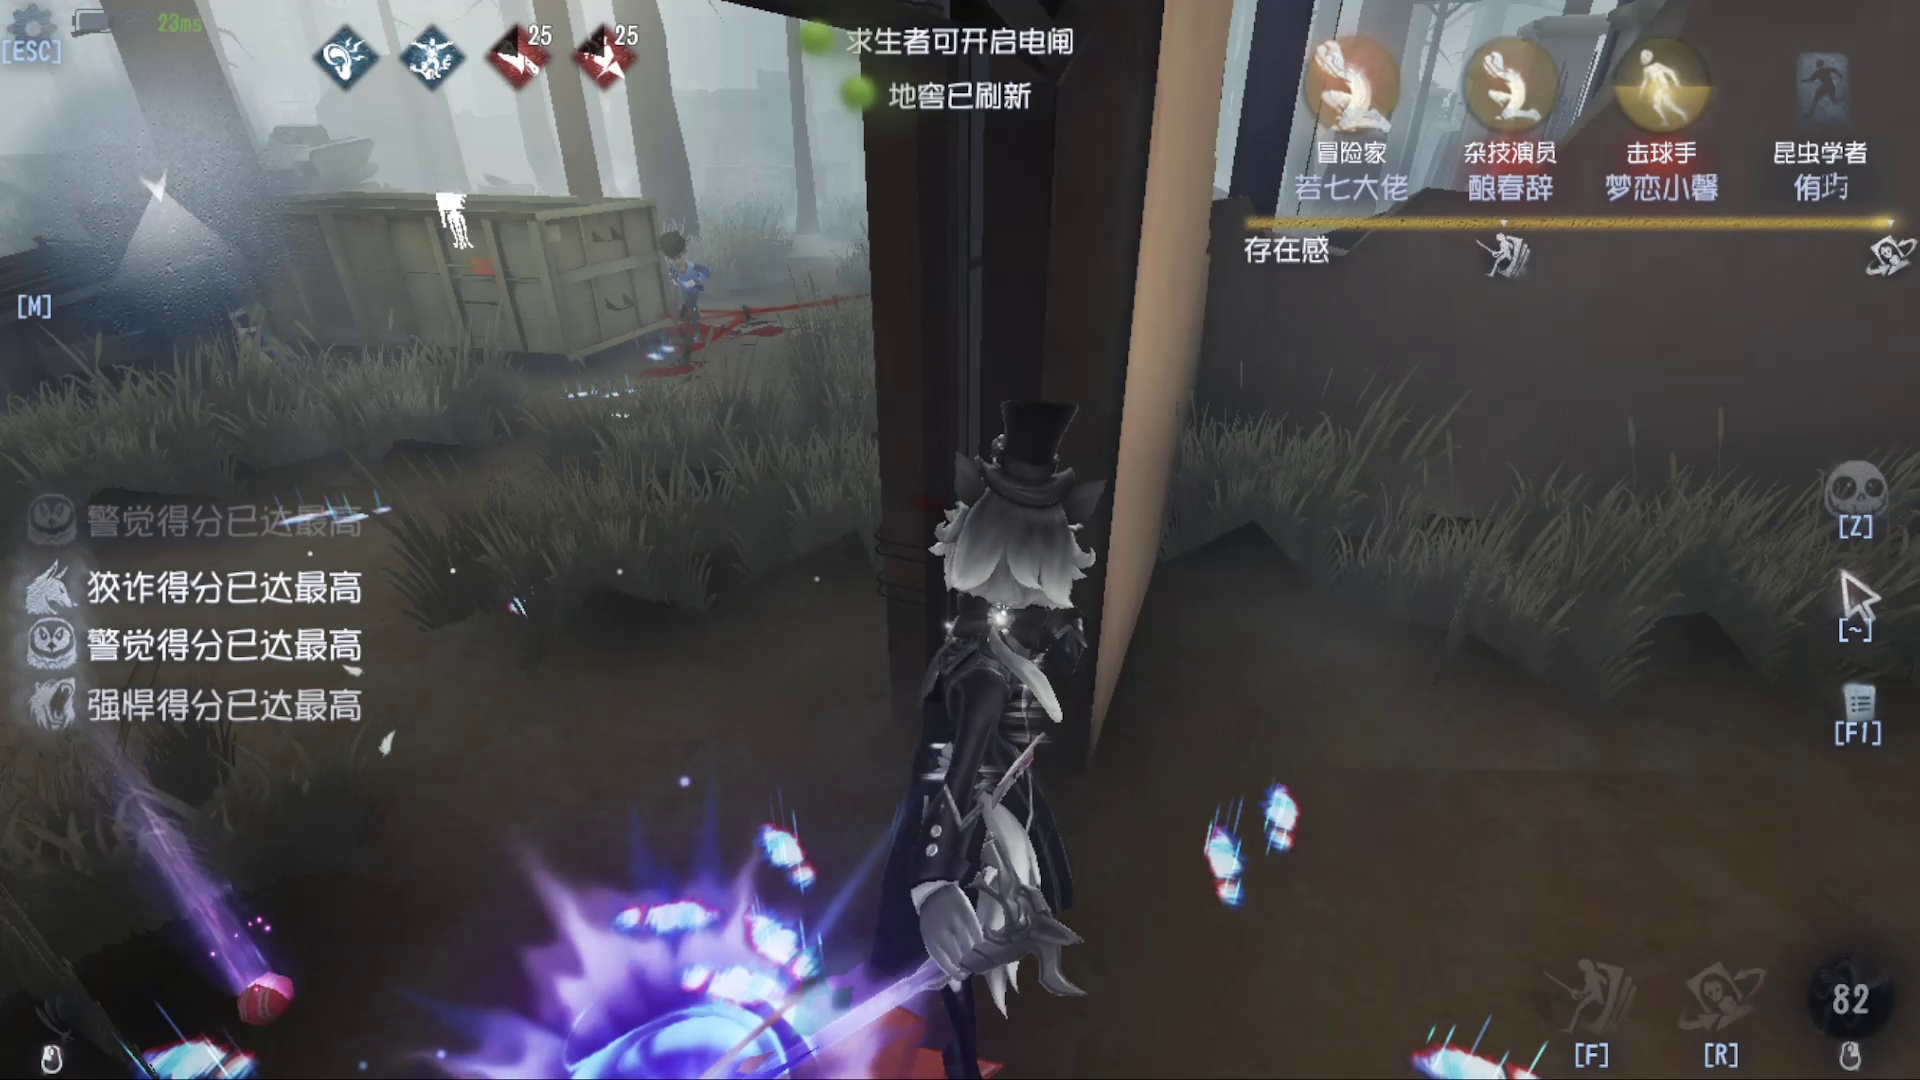求生者: (651, 204, 708, 324)
